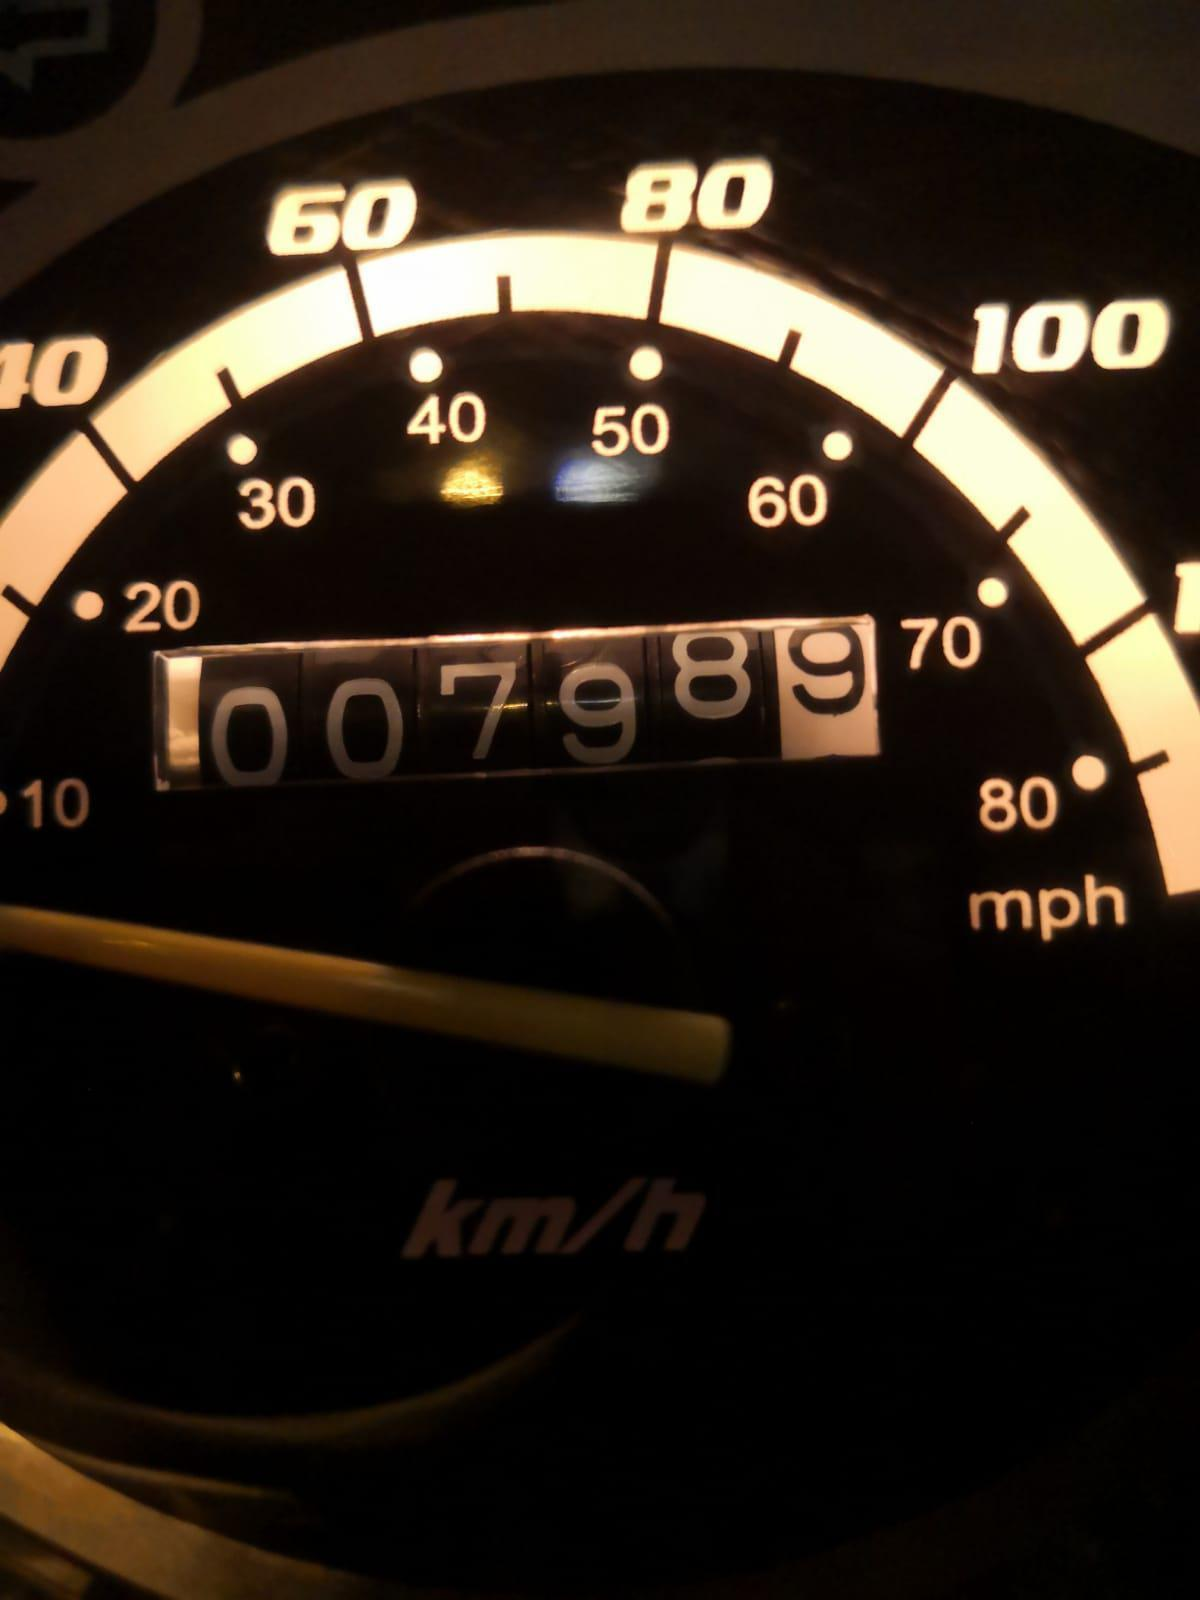0: (204, 661, 297, 791), (316, 660, 405, 777)
7: (434, 656, 524, 758)
8: (659, 621, 771, 722)
9: (783, 614, 872, 737), (547, 654, 643, 767)
odometer: (135, 603, 905, 806)
